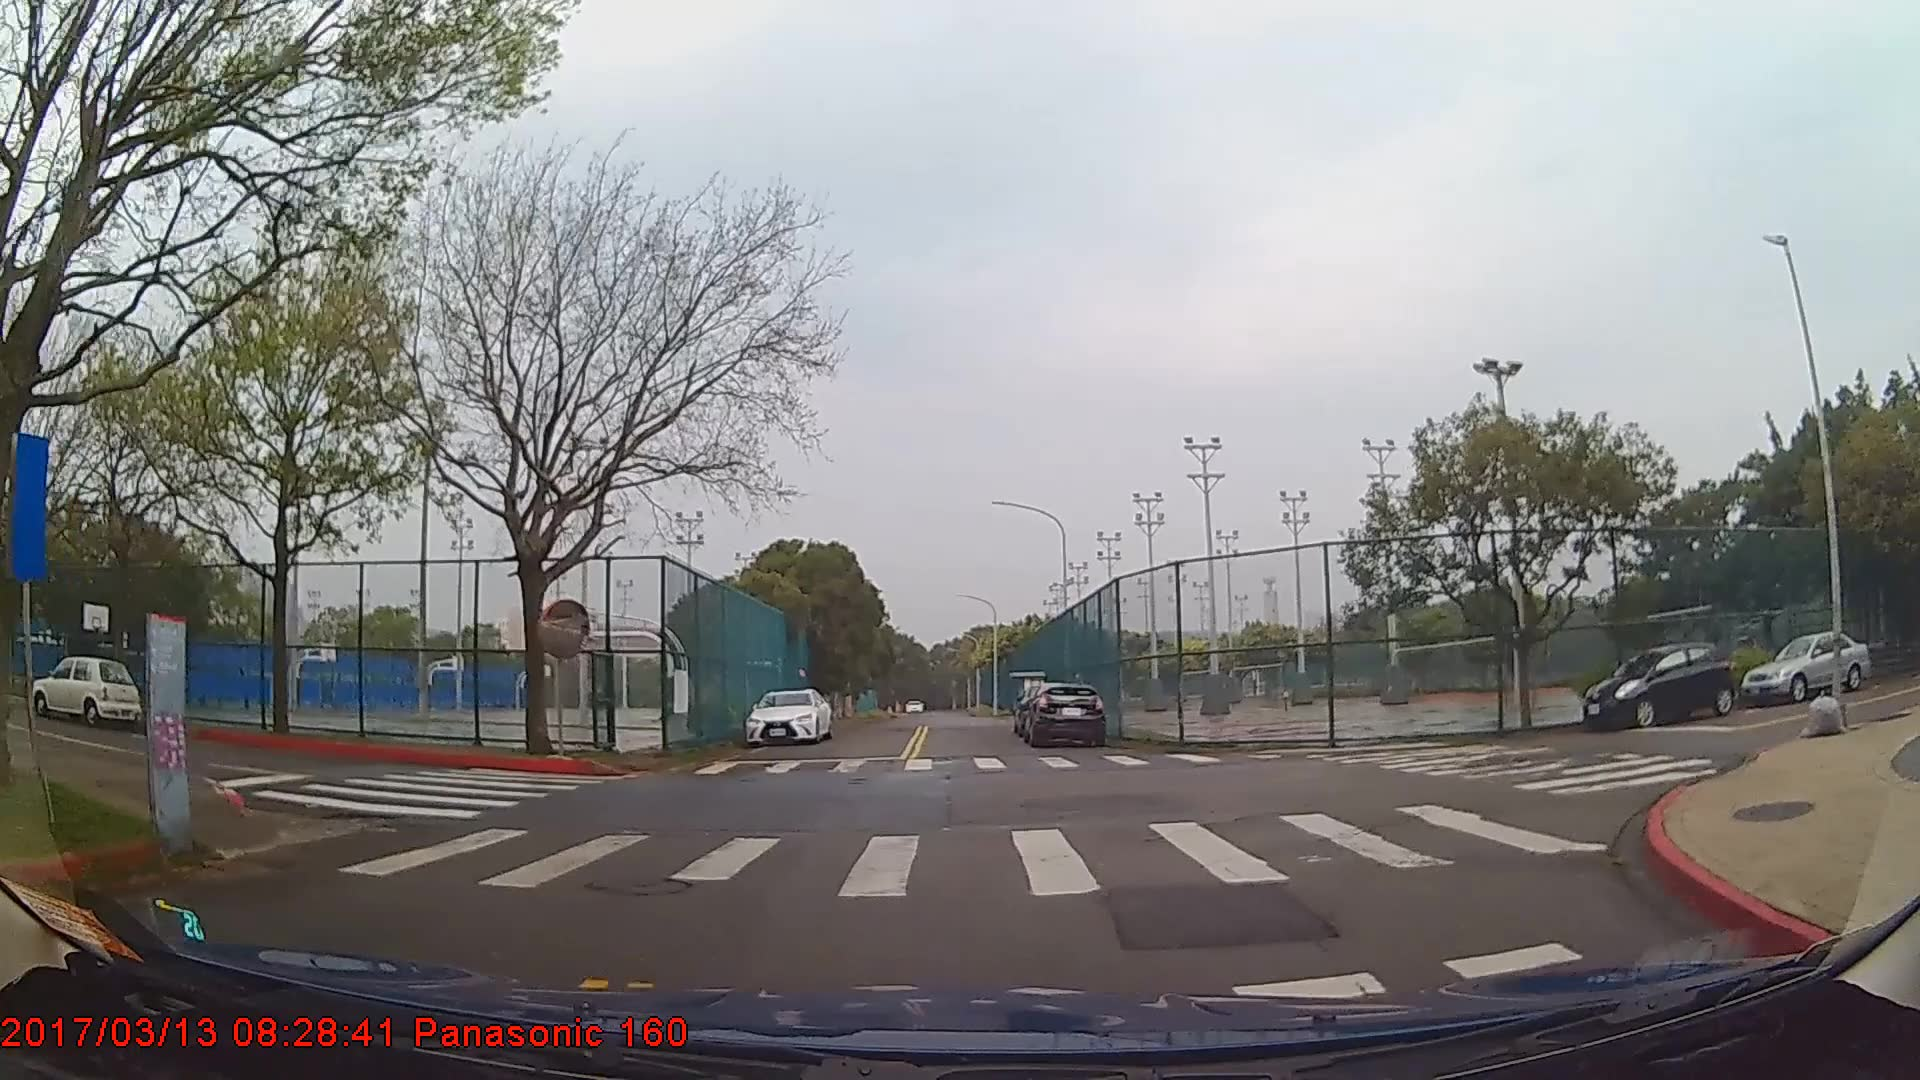vehicle: (1582, 640, 1734, 729), (1741, 632, 1873, 704), (34, 654, 138, 724), (1023, 683, 1105, 750), (746, 688, 832, 748)
